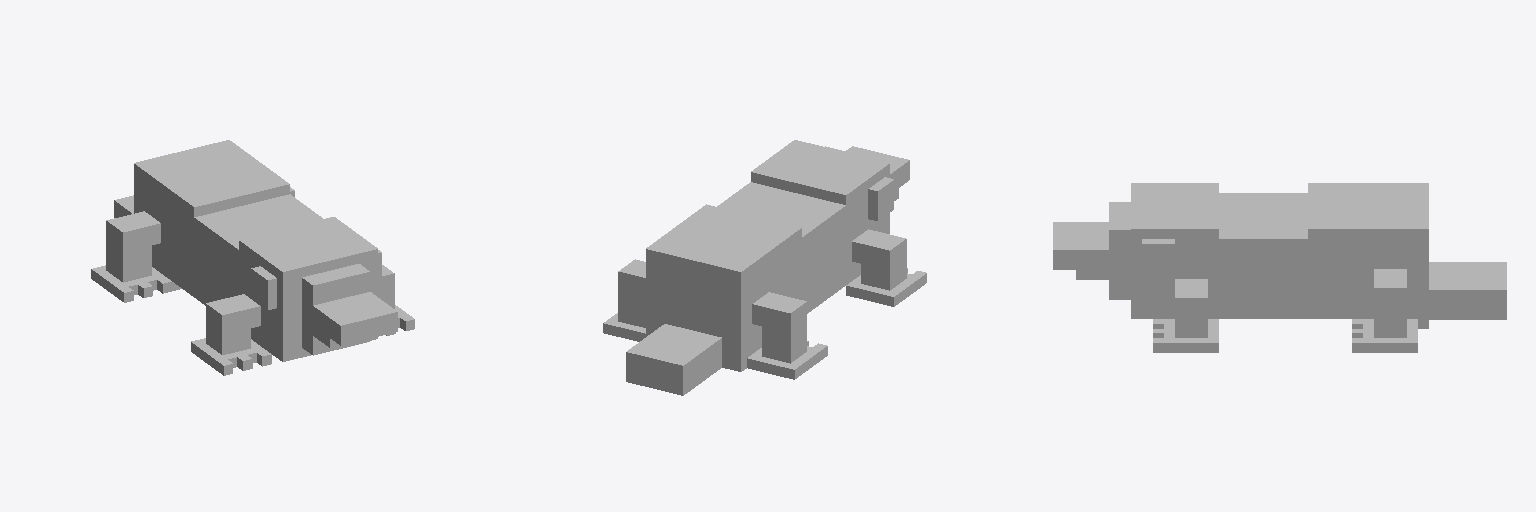
3 views of the same model, side by side, from view 1: azimuth 30°, elevation 25°; view 2: azimuth 150°, elevation 25°; view 3: azimuth 270°, elevation 25° (orthographic).
Visible parts, largest first — view 1: Platypus; view 2: Platypus; view 3: Platypus.
Boxes of the visible parts, x1=… form: Platypus: x1=91, y1=140, x2=414, y2=375; Platypus: x1=603, y1=140, x2=926, y2=395; Platypus: x1=1053, y1=183, x2=1506, y2=352.
Size of the model in its own units: 0.56 by 0.28 by 1.15.